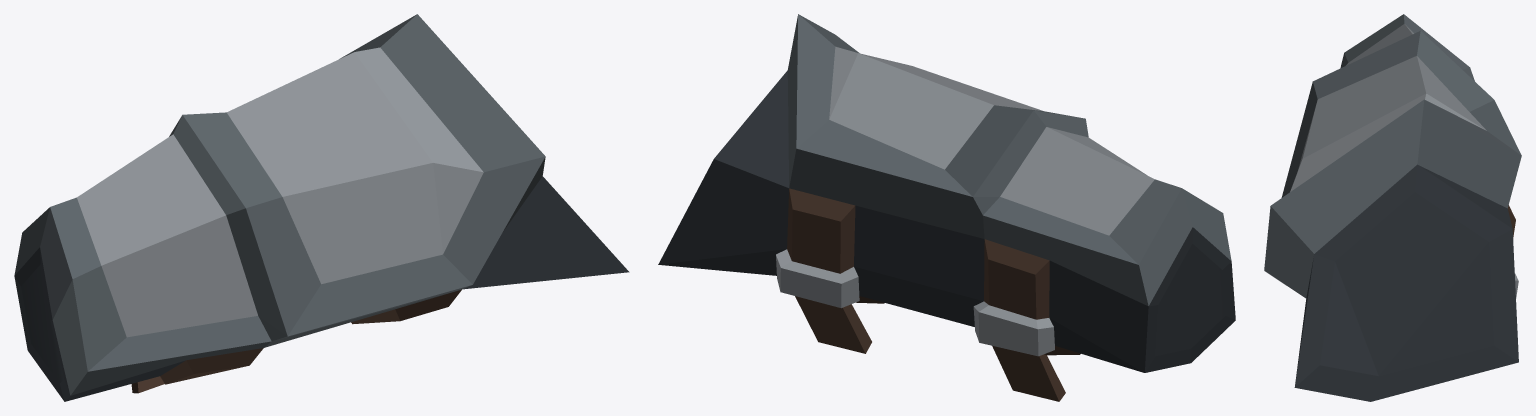
File: Chr_ArmUpperRight_Female_12_Static.fbx
3 renders of one model, left to right at view 1: azimuth 30°, elevation 25°; view 2: azimuth 150°, elevation 25°; view 3: azimuth 270°, elevation 25°, orthographic. The views are drawn at different scales.
Parts seen in each view (by area): view 1: Chr_ArmUpperRight_Female_12_Static; view 2: Chr_ArmUpperRight_Female_12_Static; view 3: Chr_ArmUpperRight_Female_12_Static.
Part boxes in pixels (bbox=[...]): Chr_ArmUpperRight_Female_12_Static: bbox=[14, 14, 629, 401]; Chr_ArmUpperRight_Female_12_Static: bbox=[658, 14, 1235, 401]; Chr_ArmUpperRight_Female_12_Static: bbox=[1264, 14, 1521, 401].
Size of the model in its own units: 0.3535 by 0.1981 by 0.1563.
